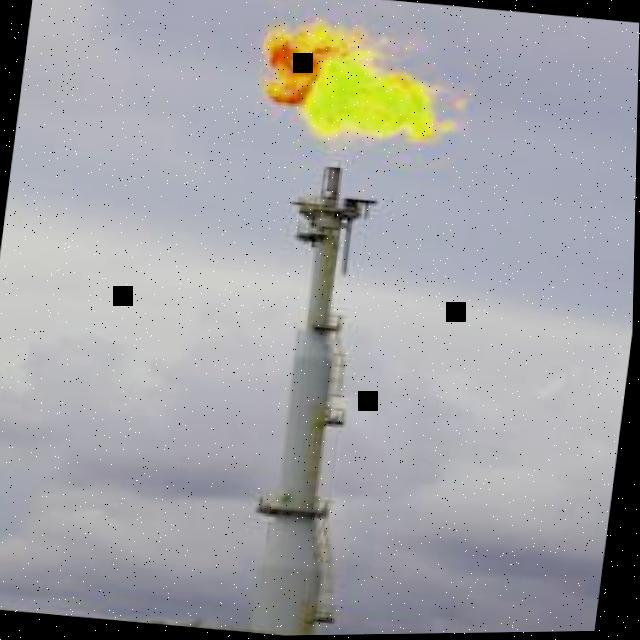fire: (263, 22, 465, 142)
